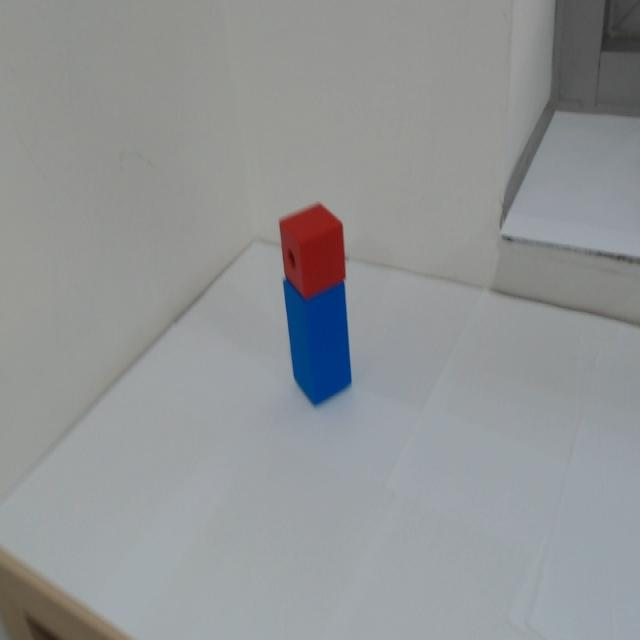cube: (266, 198, 362, 295)
